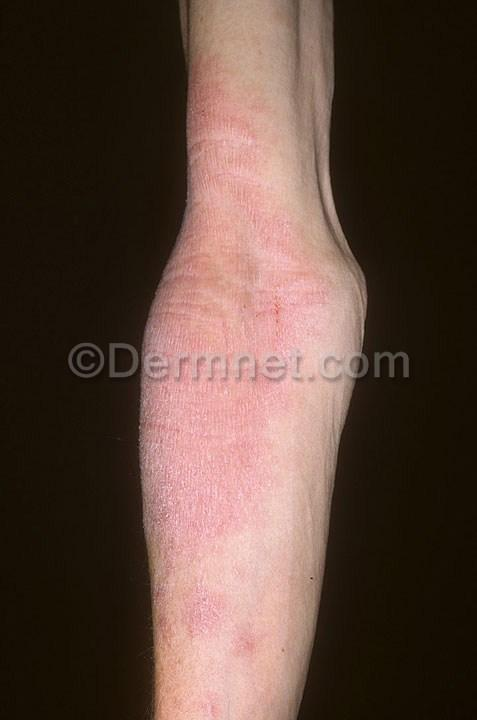Eczema: (189, 36, 341, 334), (143, 382, 289, 541), (179, 577, 271, 672)
